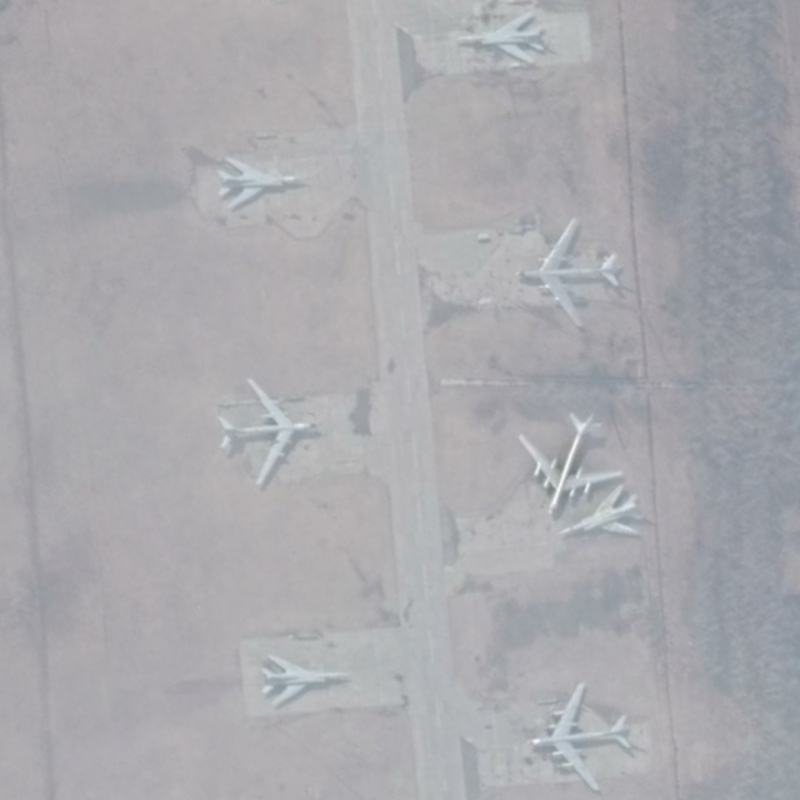A12: (259, 653, 350, 709), (454, 11, 546, 66), (558, 483, 642, 539), (216, 155, 301, 209)
A17: (513, 216, 623, 329), (527, 681, 633, 793), (217, 376, 318, 489), (517, 410, 624, 516)
